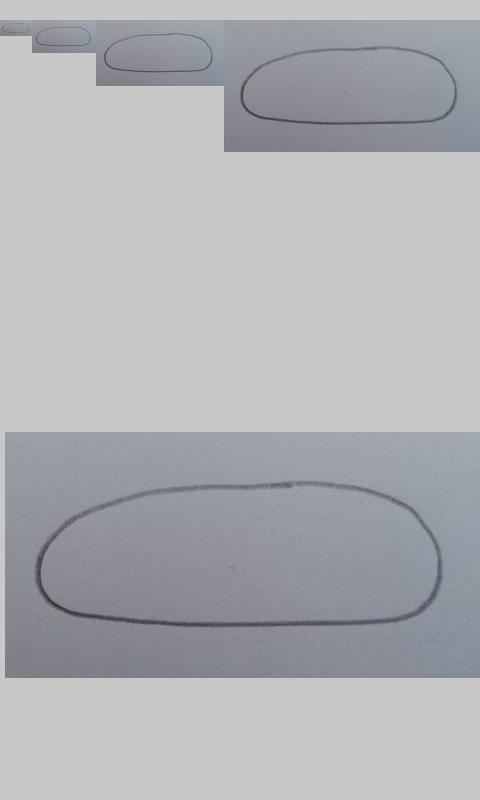chip: (32, 480, 444, 628), (240, 46, 458, 126), (103, 33, 214, 73), (35, 26, 92, 47), (1, 22, 31, 34)
